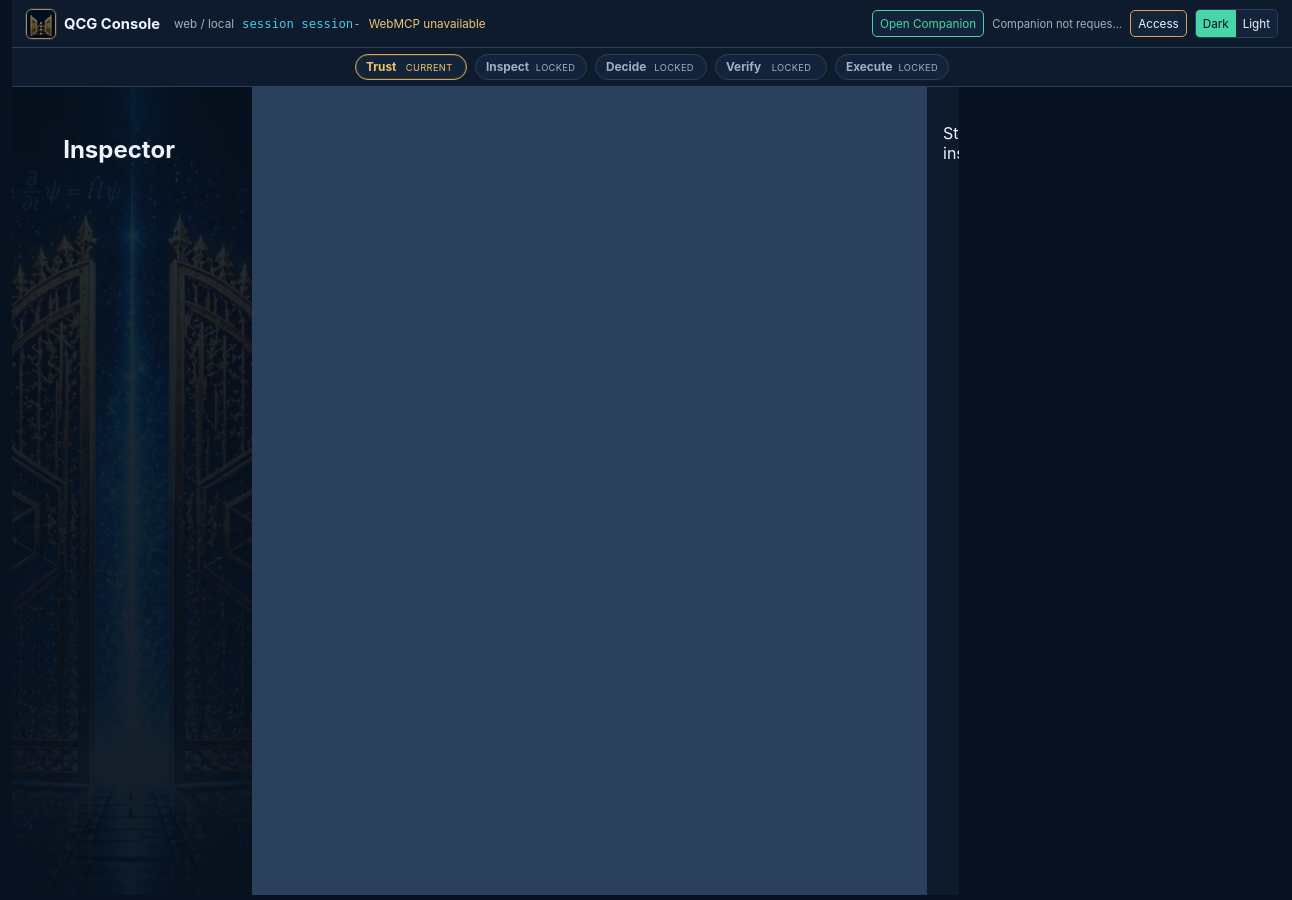
Test: QCG console shell › exposes only one compact navigation to assistive technology at a time
This screenshot has width=1292, height=900.
Click the button with aria-label "Open console navigation": [93, 24] box [26,8,160,38]
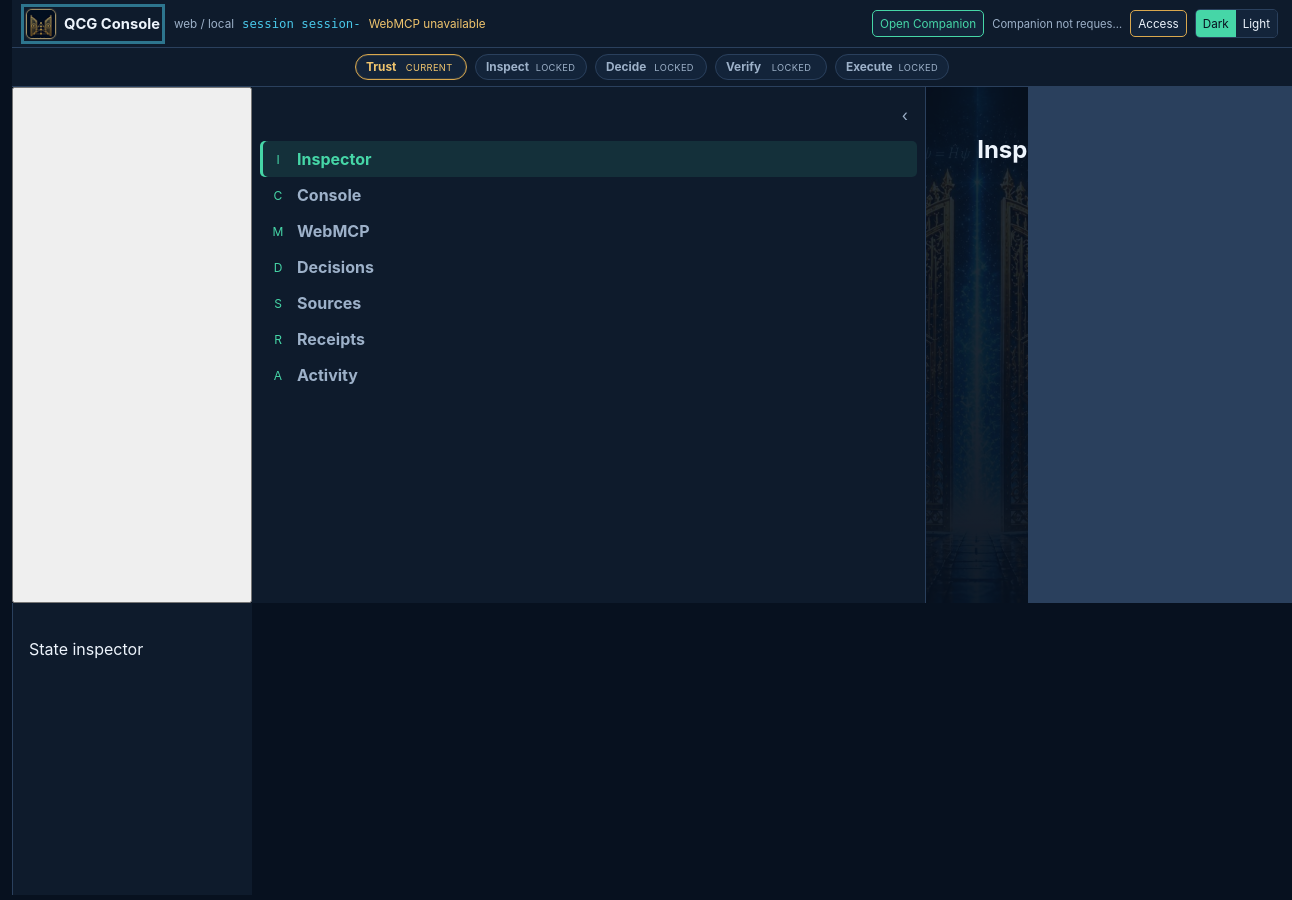
Now the number of navigation bars named "QCG console views" is 1, box [252,87,926,603]
